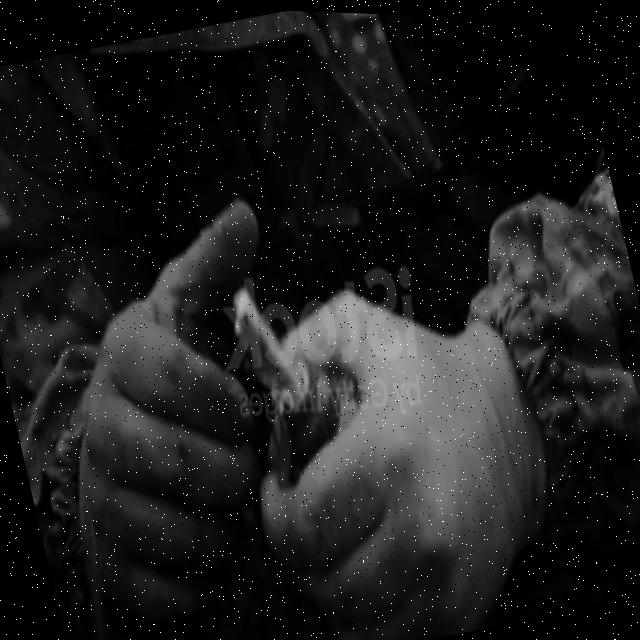grenade: (200, 254, 373, 494)
